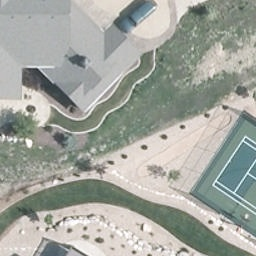car: (120, 1, 157, 35)
